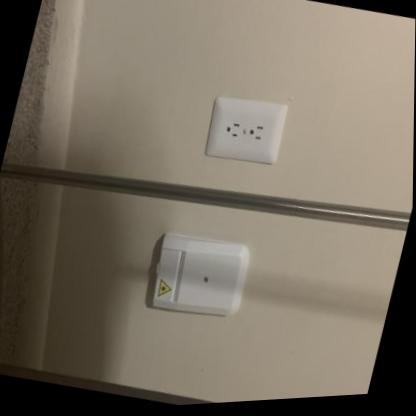OUTLET: (202, 87, 290, 171)
